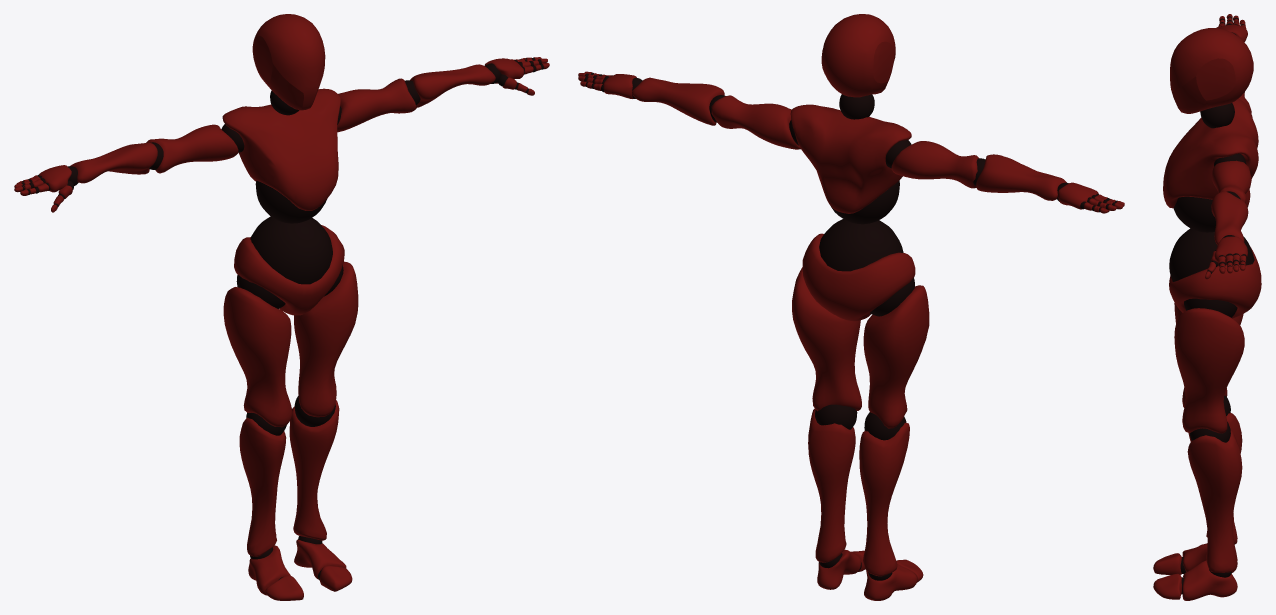
The model's file is Bot.obj.
3 renders of one model, left to right at view 1: azimuth 30°, elevation 25°; view 2: azimuth 150°, elevation 25°; view 3: azimuth 270°, elevation 25°, orthographic. The views are drawn at different scales.
Parts seen in each view (by area): view 1: obj1, obj2; view 2: obj1, obj2; view 3: obj1, obj2.
Part boxes in pixels (box(x1,y1,x2,y2)): obj1: box(14, 14, 549, 600); obj2: box(21, 57, 543, 579); obj1: box(578, 14, 1124, 600); obj2: box(584, 72, 1117, 580); obj1: box(1153, 14, 1261, 600); obj2: box(1169, 16, 1254, 594).
Bounding box in the file's own units: 181 × 181 × 32.07.
